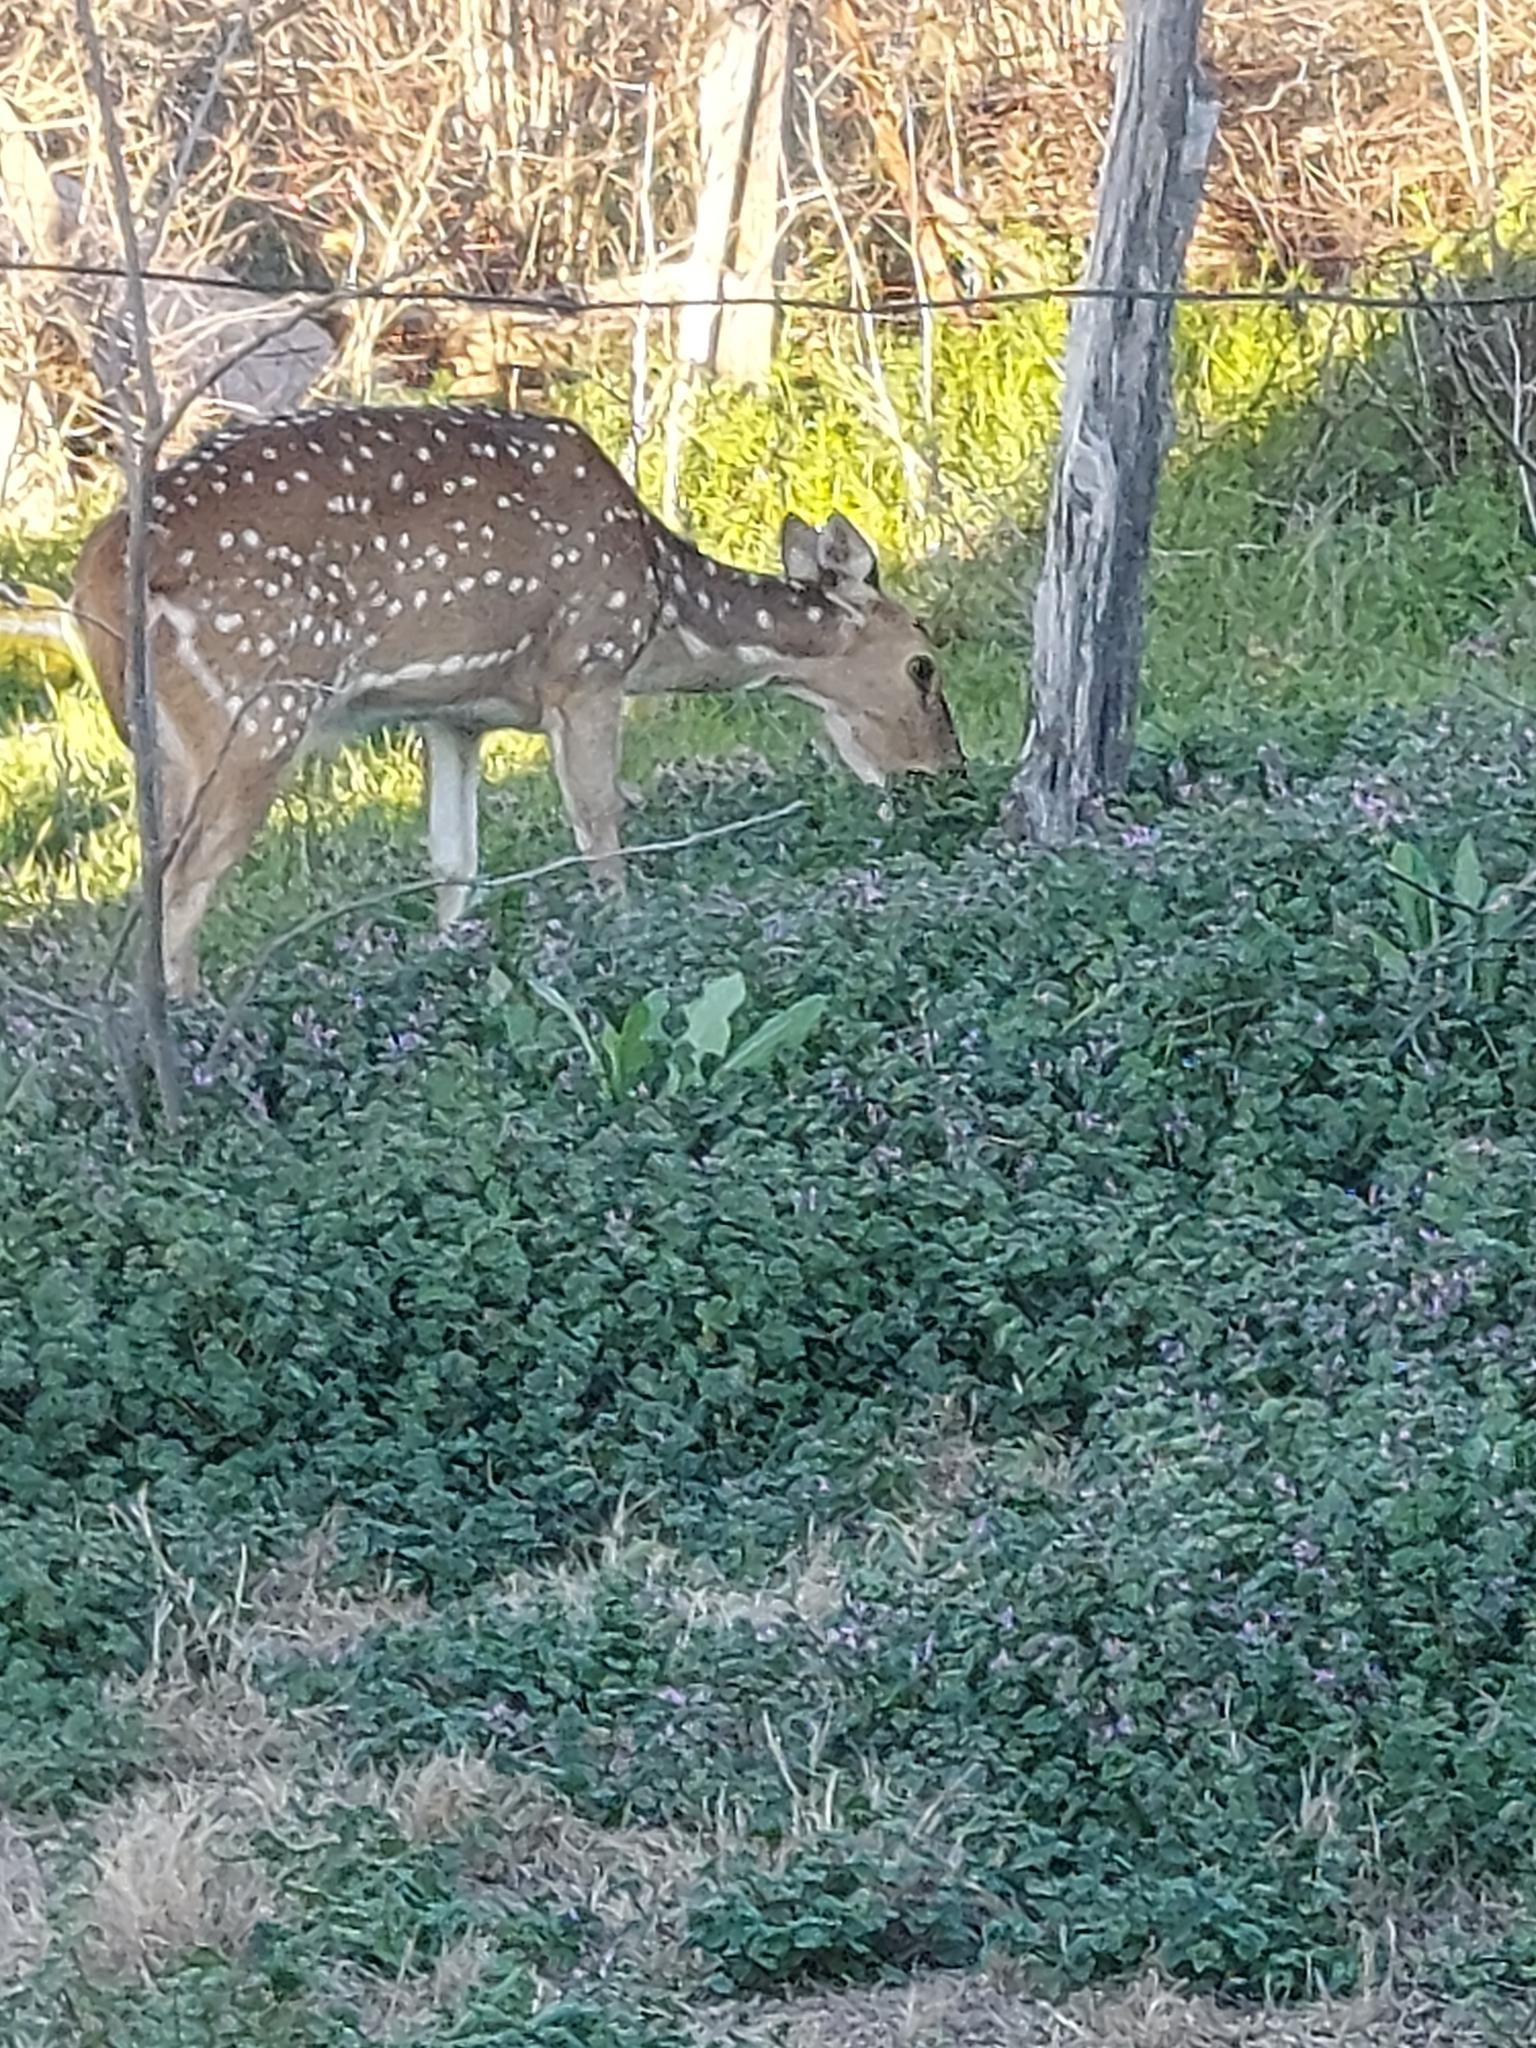Deer: (144, 405, 963, 995)
